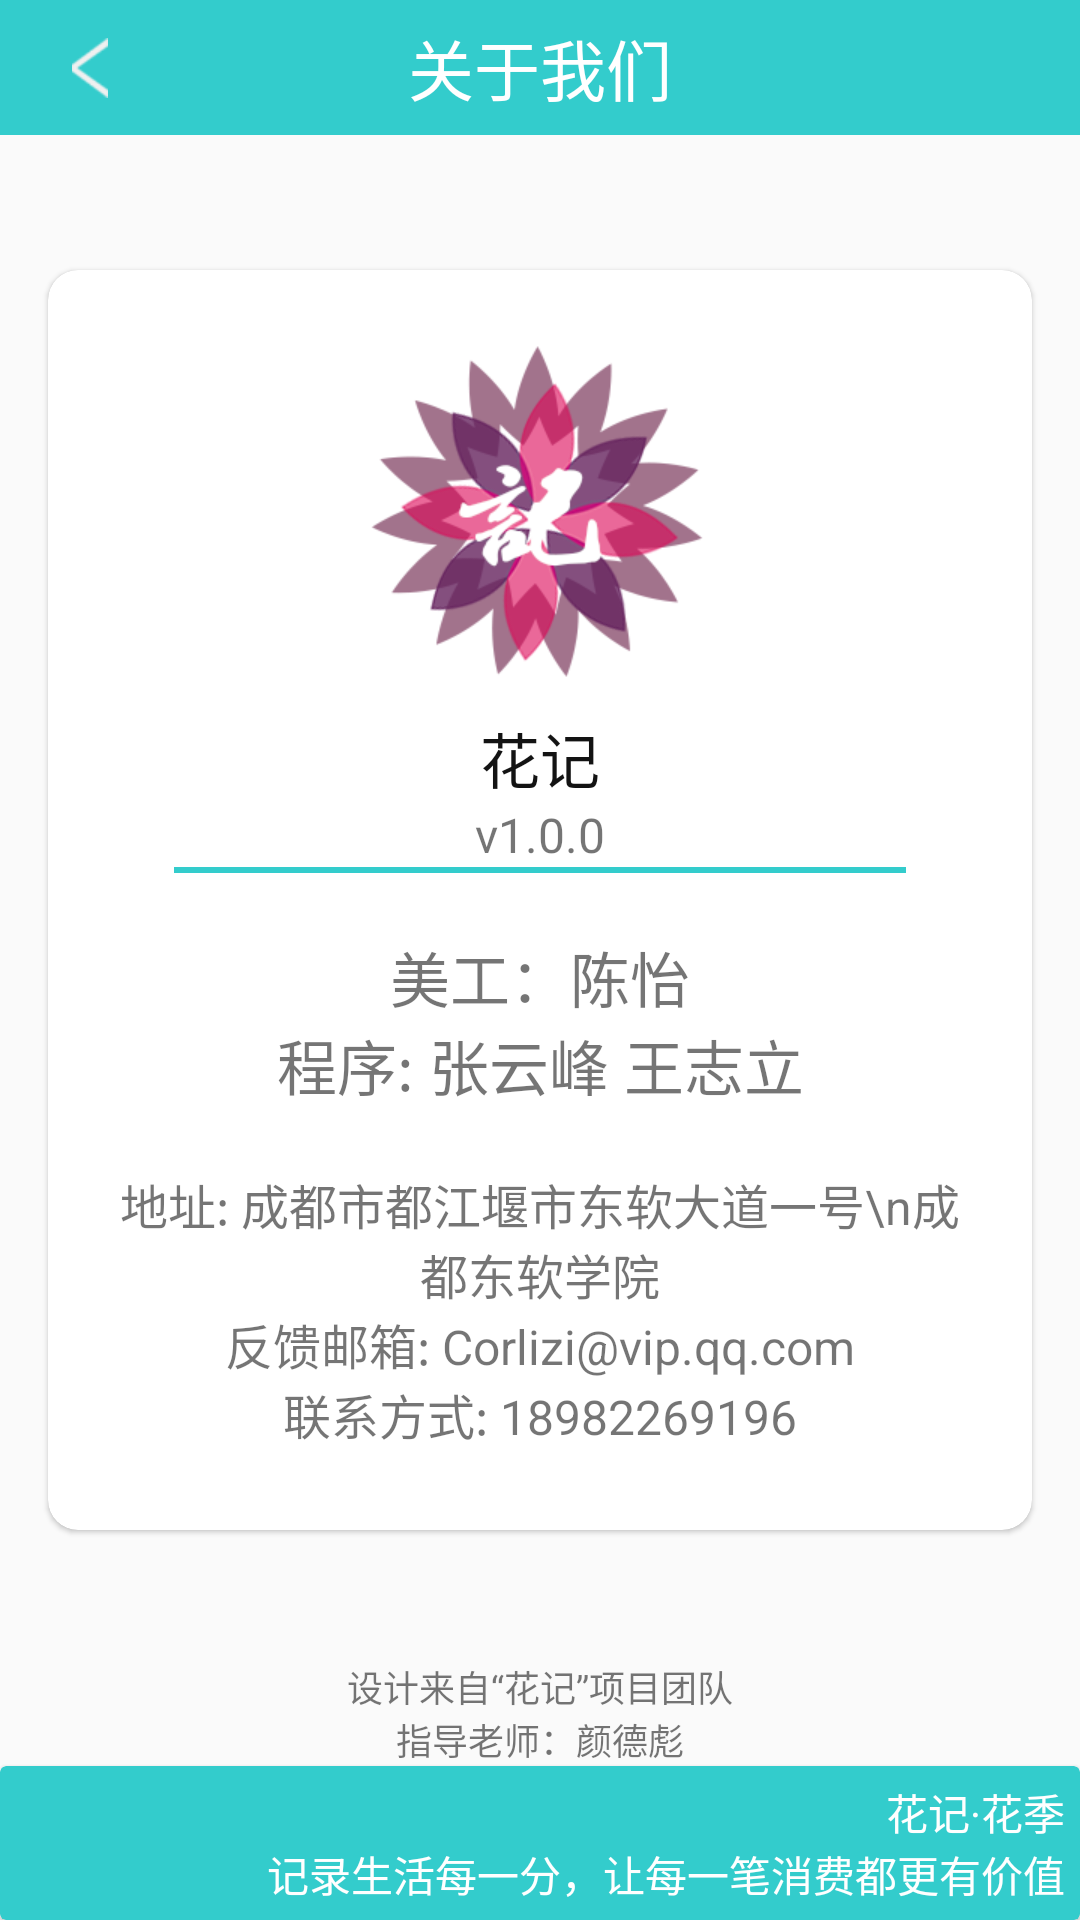

Where to tap for icons on this 1080px×1920px app screen, as (x,y):
return bar: (90,68)
